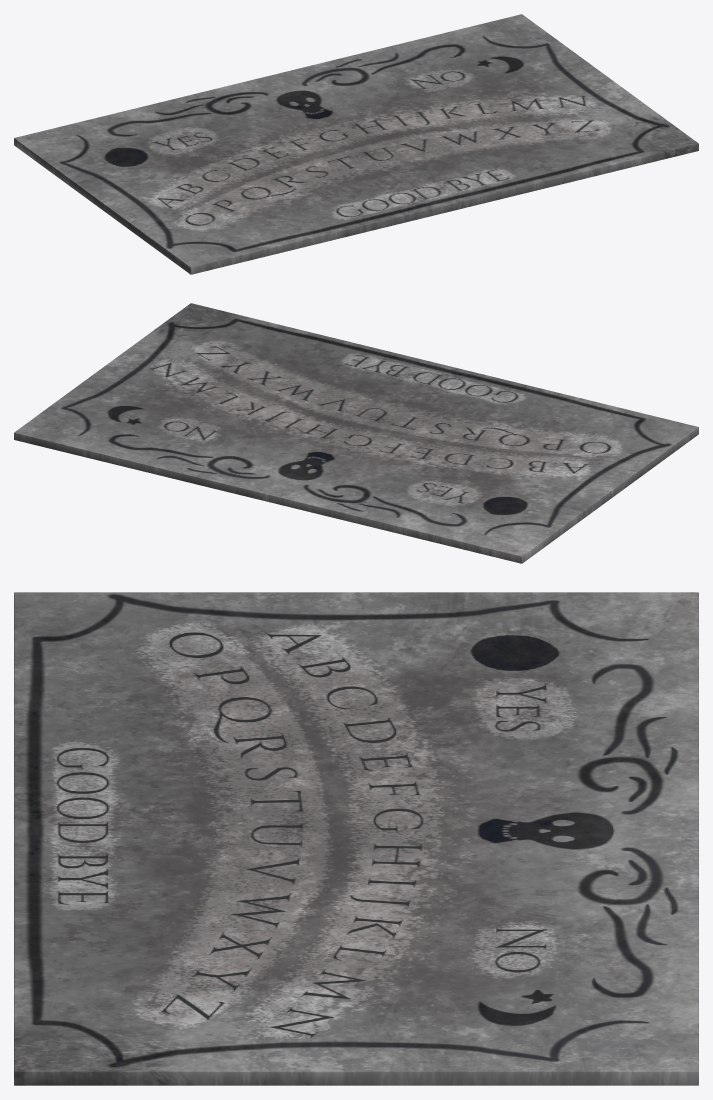
The model's file is ouiji board.fbx.
3 renders of one model, top to bottom at view 1: azimuth 30°, elevation 25°; view 2: azimuth 150°, elevation 25°; view 3: azimuth 270°, elevation 25°, orthographic. The views are drawn at different scales.
Parts seen in each view (by area): view 1: Ouija Board; view 2: Ouija Board; view 3: Ouija Board.
Boxes of the visible parts, left/top/right/bottom form: Ouija Board: left=14, top=14, right=698, bottom=274; Ouija Board: left=14, top=303, right=698, bottom=563; Ouija Board: left=14, top=592, right=698, bottom=1085.
Bounding box in the file's own units: 14.73 × 8.89 × 0.2064.
